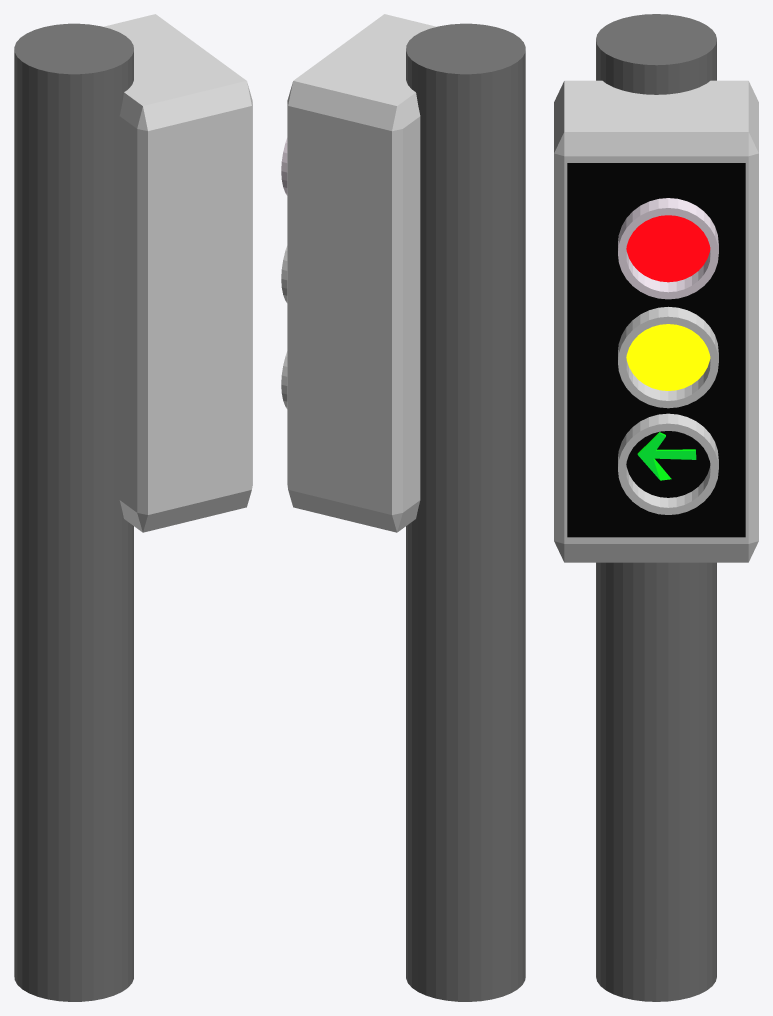
Rendered from uk_traffic_light_1B.fbx.
3 views of the same model, side by side, from view 1: azimuth 30°, elevation 25°; view 2: azimuth 150°, elevation 25°; view 3: azimuth 270°, elevation 25° (orthographic).
Visible parts, largest first — view 1: Cylinder, Cube; view 2: Cylinder, Cube; view 3: Cube, Cylinder, Circle, Circle.001, Circle.002.
Boxes of the visible parts, x1,y1,x2,y2 form: Cylinder: [14, 23, 133, 1001]; Cube: [103, 14, 252, 532]; Cylinder: [406, 23, 525, 1001]; Cube: [287, 14, 436, 532]; Cube: [554, 80, 758, 562]; Cylinder: [596, 14, 716, 1001]; Circle: [618, 198, 718, 299]; Circle.001: [618, 306, 718, 408]; Circle.002: [618, 413, 718, 514].
Size of the model in its own units: 7.13 by 30.7 by 6.09.
